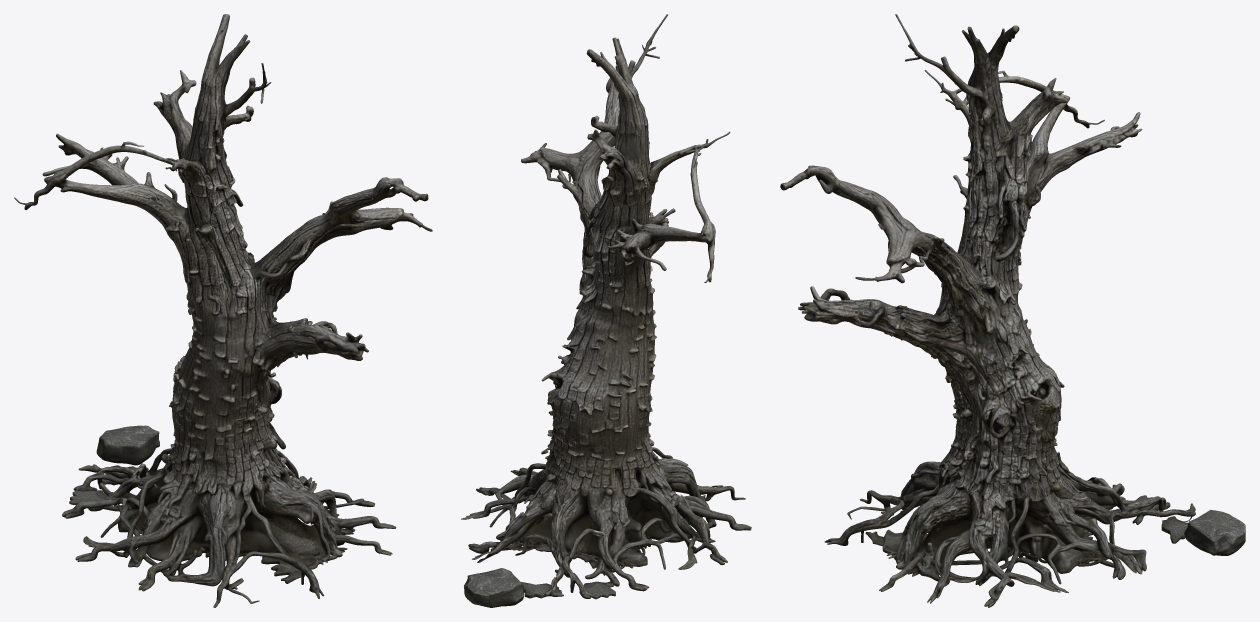
Rendered from dead-tree-optimized.glb.
3 views of the same model, side by side, from view 1: azimuth 30°, elevation 25°; view 2: azimuth 150°, elevation 25°; view 3: azimuth 270°, elevation 25° (orthographic). The views are drawn at different scales.
Visible parts, largest first — view 1: tripo_node_15ebc94a-762c-4674-ae01-09cefa93147c; view 2: tripo_node_15ebc94a-762c-4674-ae01-09cefa93147c; view 3: tripo_node_15ebc94a-762c-4674-ae01-09cefa93147c.
Boxes of the visible parts, x1,y1,x2,y2 form: tripo_node_15ebc94a-762c-4674-ae01-09cefa93147c: (14, 14, 432, 607); tripo_node_15ebc94a-762c-4674-ae01-09cefa93147c: (461, 14, 751, 607); tripo_node_15ebc94a-762c-4674-ae01-09cefa93147c: (780, 14, 1245, 607).
Size of the model in its own units: 0.6024 by 0.9808 by 0.7968.
1 material, 1 textured.
